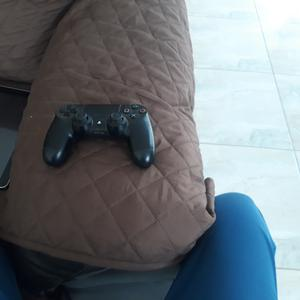controller: (43, 104, 154, 169)
